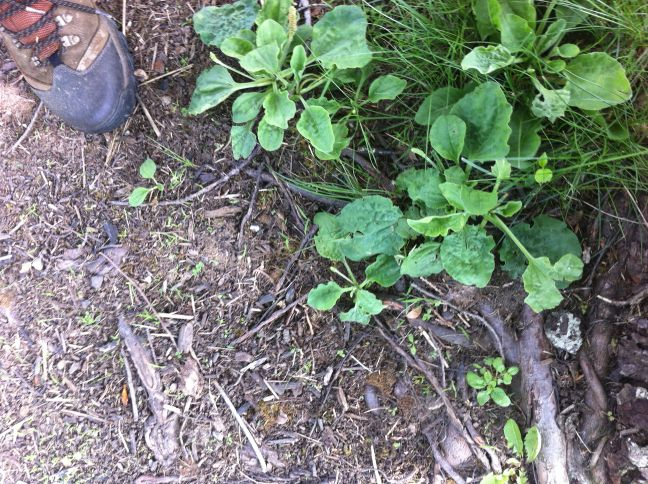weed1: (311, 78, 585, 323), (427, 1, 632, 167), (186, 1, 375, 162)
